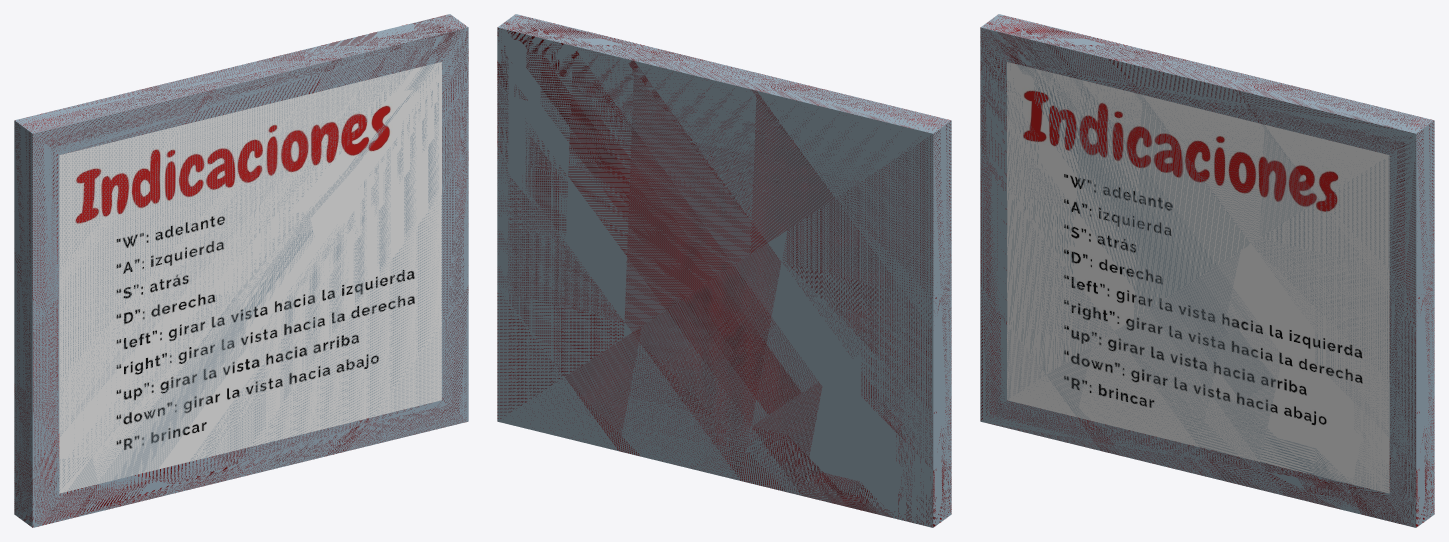
Rendered from letreroindicaciones.obj.
The picture shows the model from 3 angles, left to right: view 1: azimuth 30°, elevation 25°; view 2: azimuth 150°, elevation 25°; view 3: azimuth 330°, elevation 25°; orthographic projection.
Visible parts, largest first — view 1: Mesh1 Model; view 2: Mesh1 Model; view 3: Mesh1 Model.
Part boxes in pixels (bbox=[...]): Mesh1 Model: bbox=[14, 14, 468, 527]; Mesh1 Model: bbox=[497, 14, 951, 527]; Mesh1 Model: bbox=[980, 14, 1434, 527].
Size of the model in its own units: 76.87 by 66.44 by 5.62.
